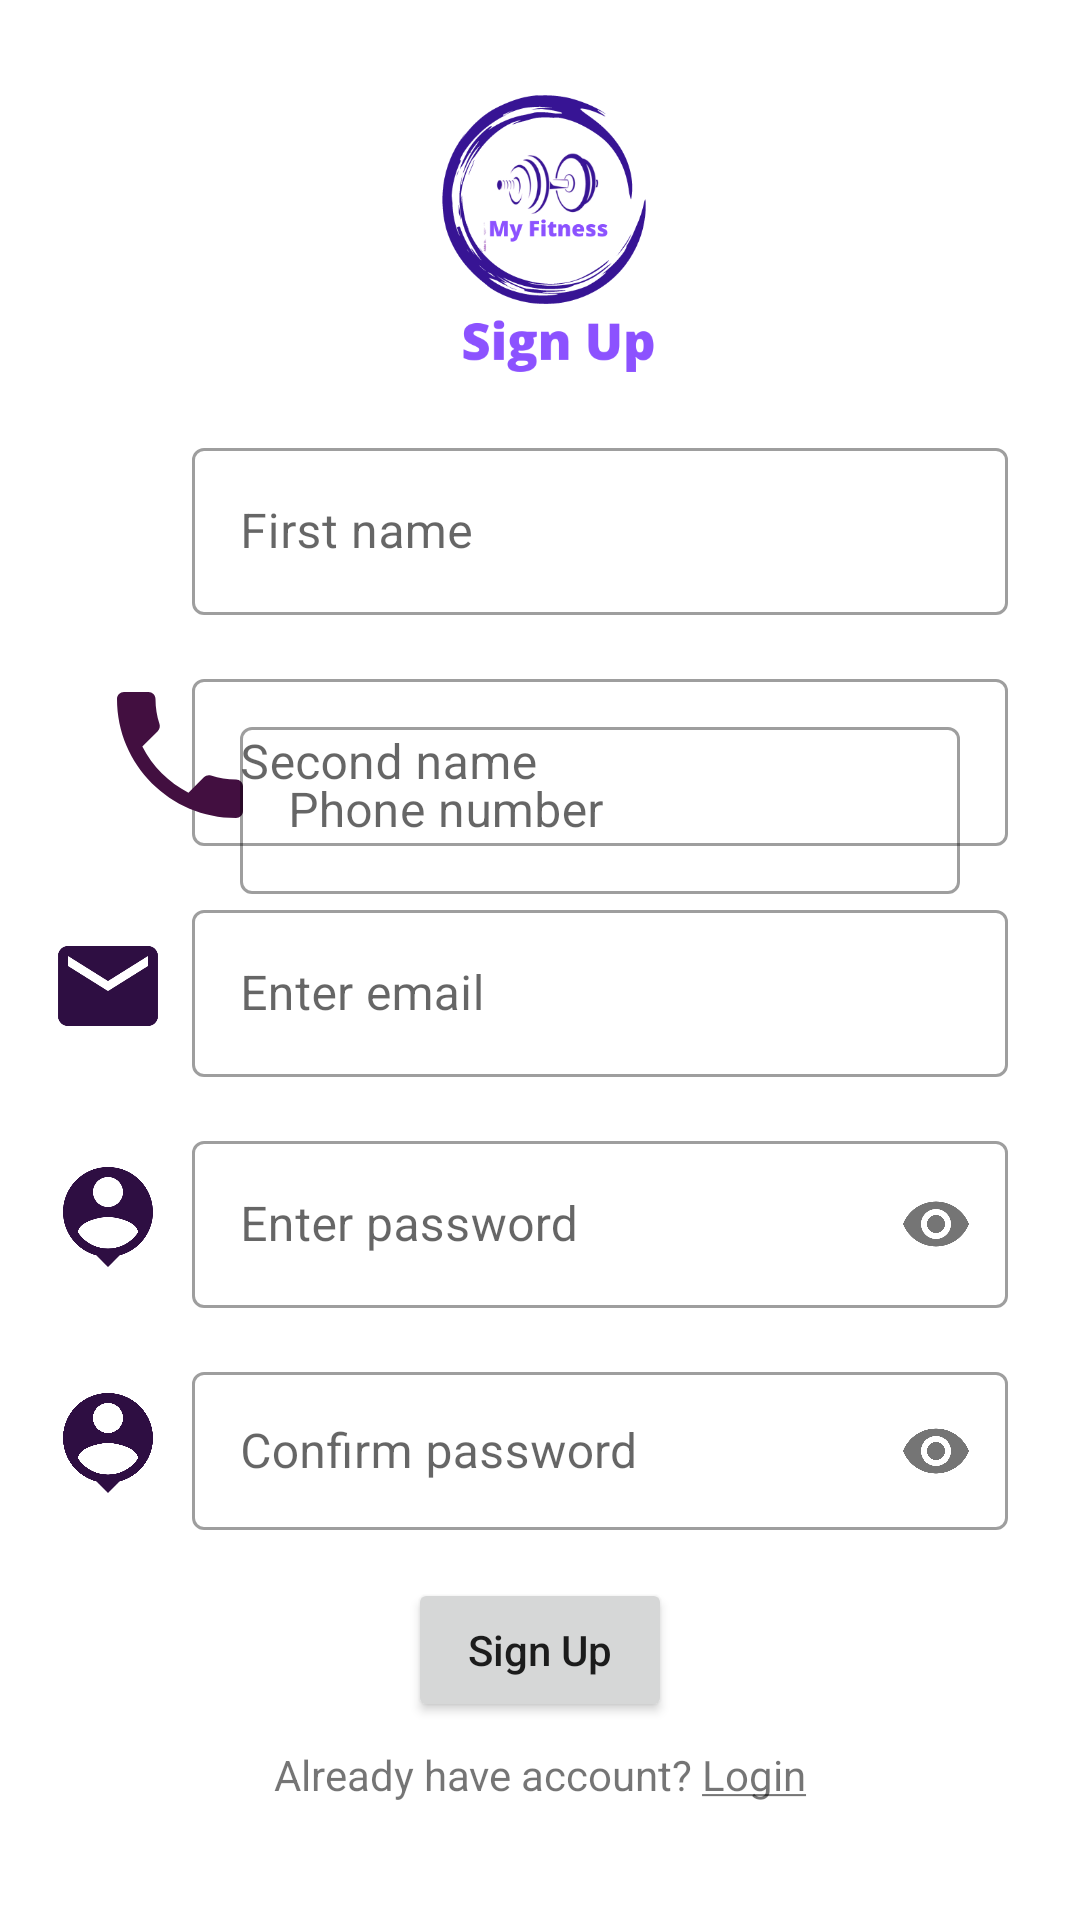

Screen size 1080px×1920px. Icon name, then its center in pixels as point (x, y):
local phone: point (190, 759)
person pin: point (108, 1217), point (108, 1443)
